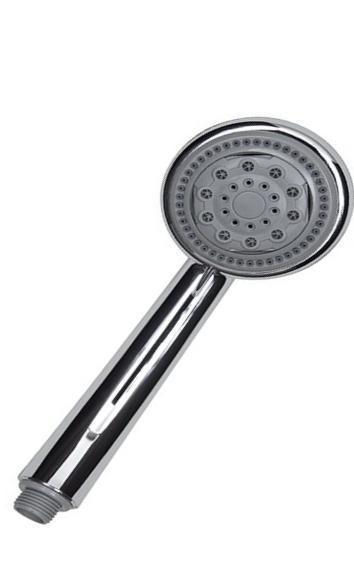Ducha: (0, 115, 353, 526)
